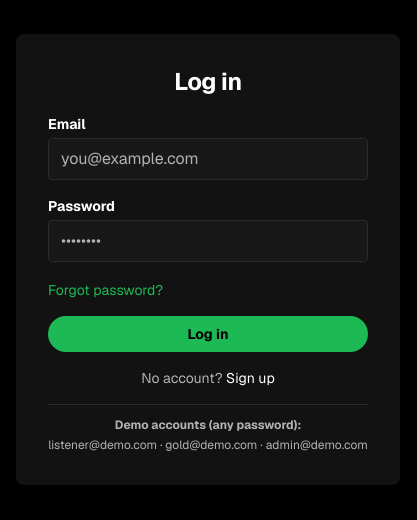
Test case: LoginPage › shows an auth error when login returns null
In the field labelled "Email": {"x": 208, "y": 158} [48,138,368,180], type "nobody@demo.com"
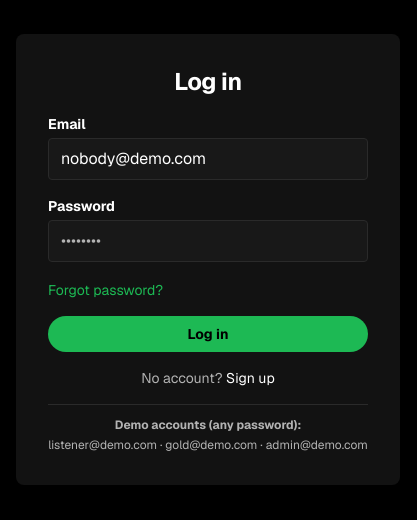
In the password field labelled "Password": {"x": 208, "y": 240} [48,220,368,262], type "secret"
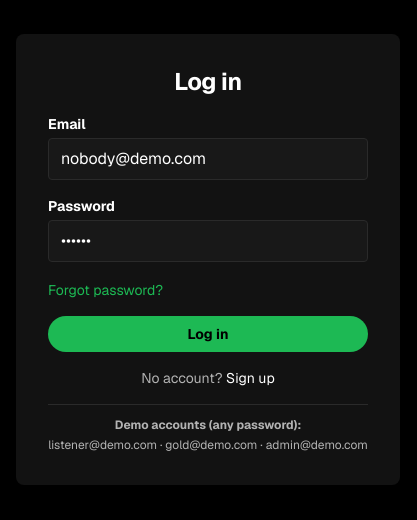
Click the button "Log in": {"x": 208, "y": 334} [48,316,368,352]
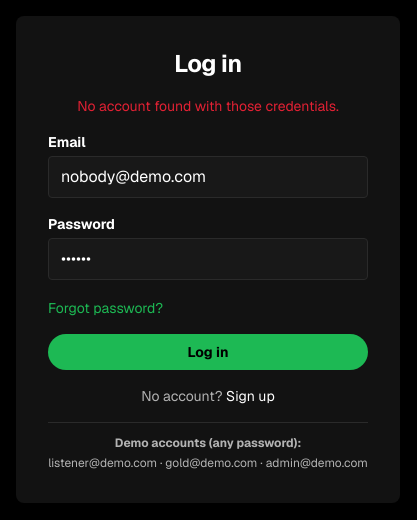
expect the text "No account found with those credentials." is shown: met, box [77,96,339,114]
